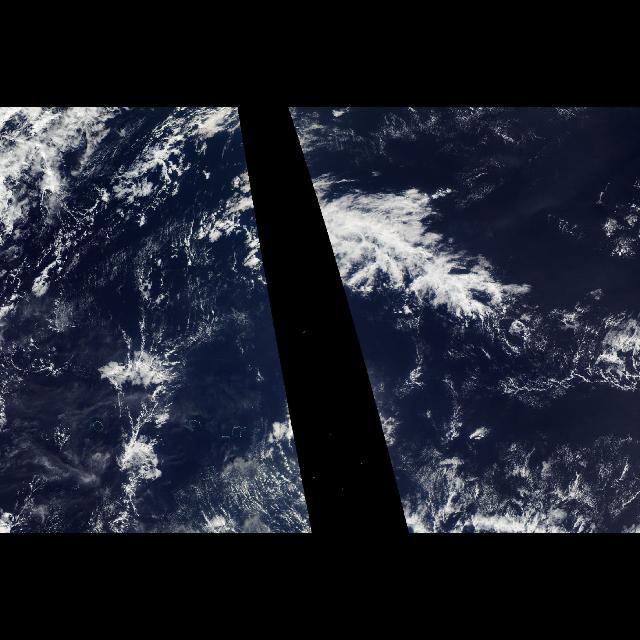Fish: (427, 236, 635, 404)
Gravel: (18, 138, 220, 338)
